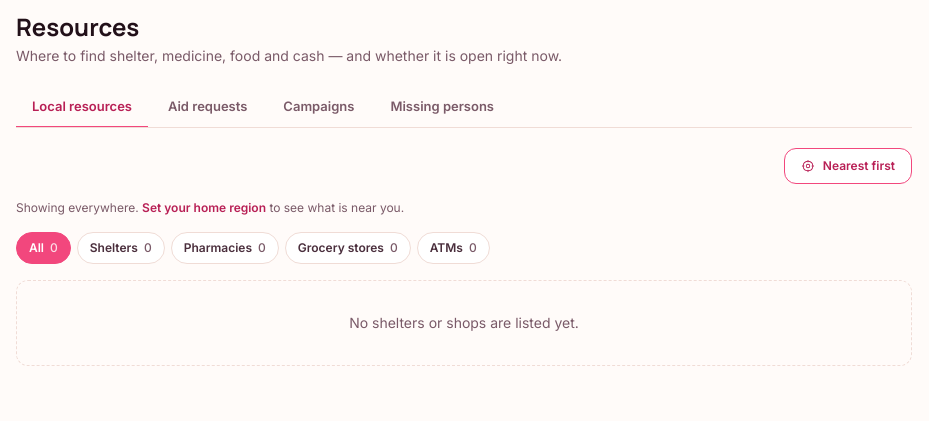
Test case: ResourcesPage — the tab shell › opens on Local resources, and shows the placeholder — with its tab selected — for one that isn’t built
The width and height of the screenshot is (929, 421).
Step 1. Click the tab "Aid requests" → (208, 107), box [152,86,263,128]
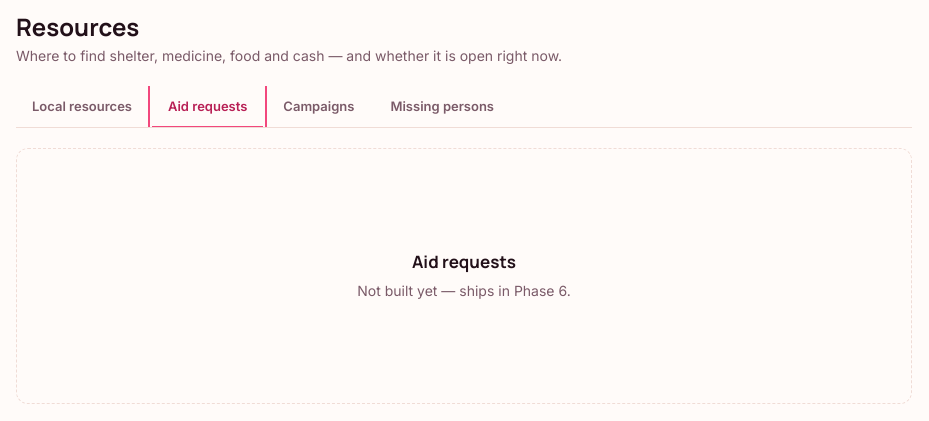
Result: the text "Not built yet — ships in Phase 6." is shown at [357,281,571,301]
Step 2. Click the tab "Local resources" → (82, 107), box [16,86,148,128]
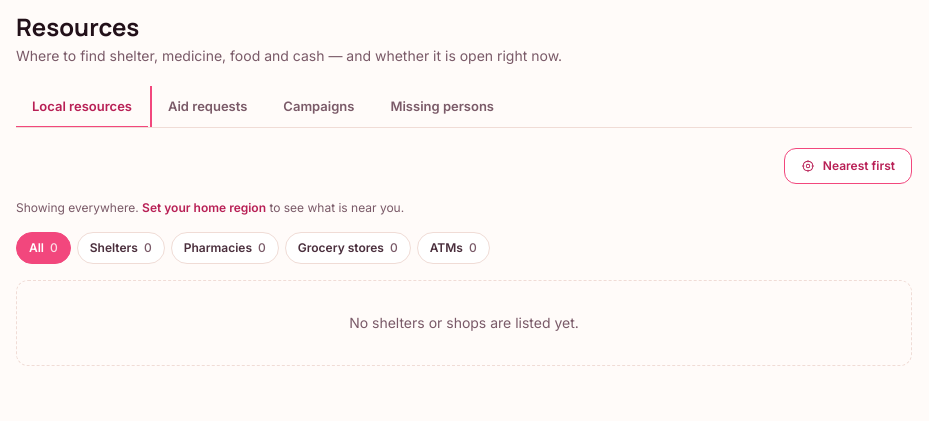
Result: the text "Not built yet — ships in Phase 6." is gone
